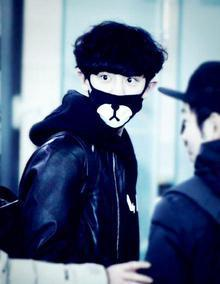NONE: (180, 112, 219, 170)
WRONG: (91, 68, 149, 126)
